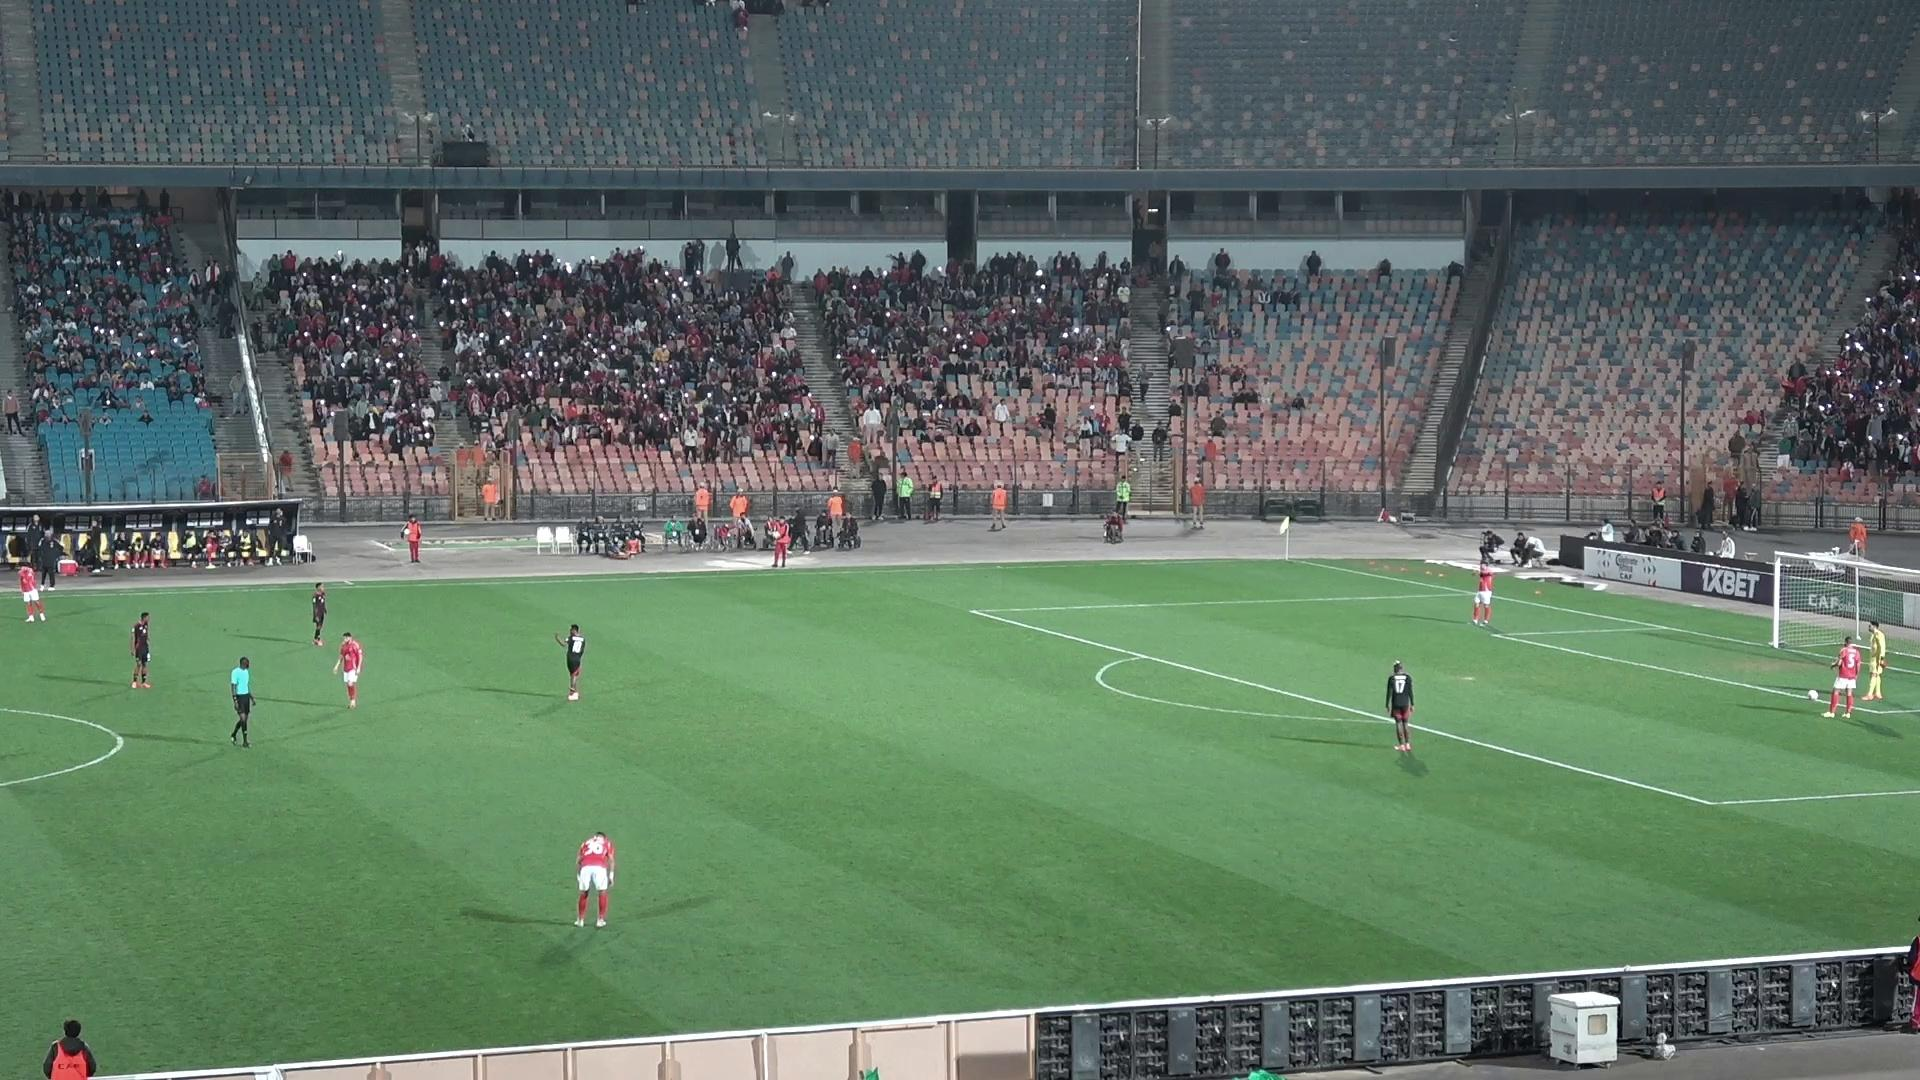Ball: (1808, 688, 1824, 702)
GK1: (1859, 621, 1888, 700)
Refree: (228, 655, 255, 746)
Team1: (574, 832, 616, 926), (1822, 638, 1863, 716), (334, 632, 364, 707), (16, 564, 50, 621), (1472, 555, 1494, 625)
Team2: (1385, 661, 1414, 753), (556, 624, 585, 702), (129, 613, 152, 688), (310, 583, 328, 646)
